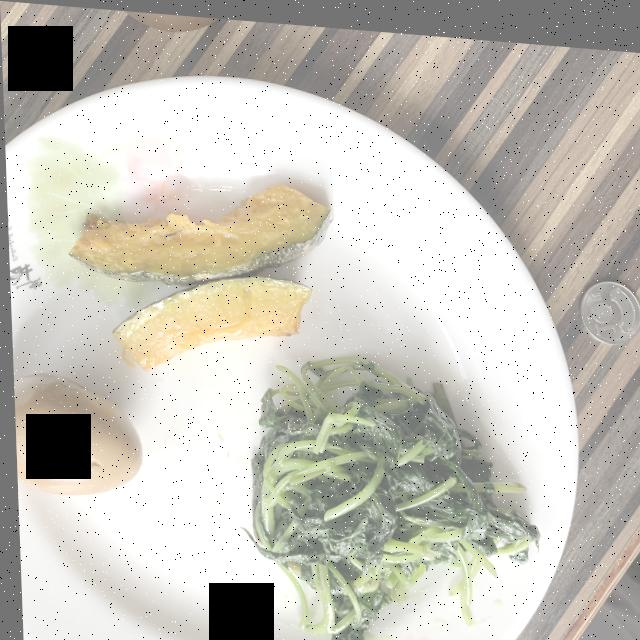coin: (578, 270, 640, 333)
pumpkin: (67, 178, 331, 367)
soy egg: (11, 371, 139, 494)
sweet potato leaves: (245, 350, 535, 640)
